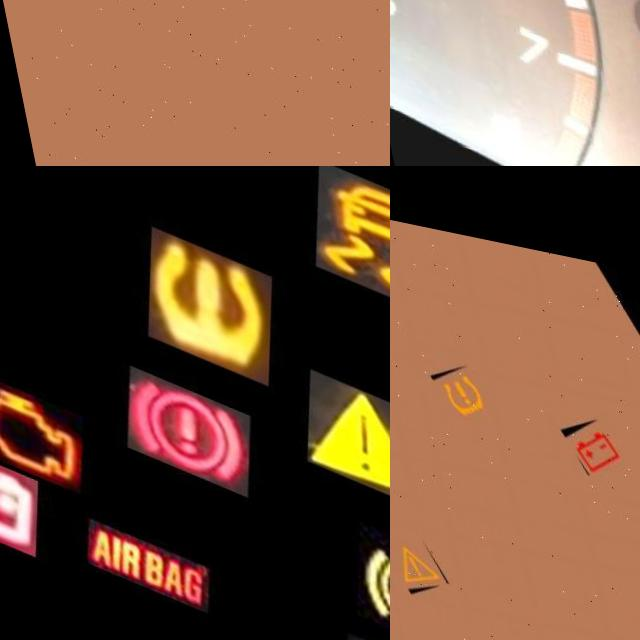Central Warning lamp: (276, 345, 390, 491)
Engine cooling system: (299, 608, 390, 640)
